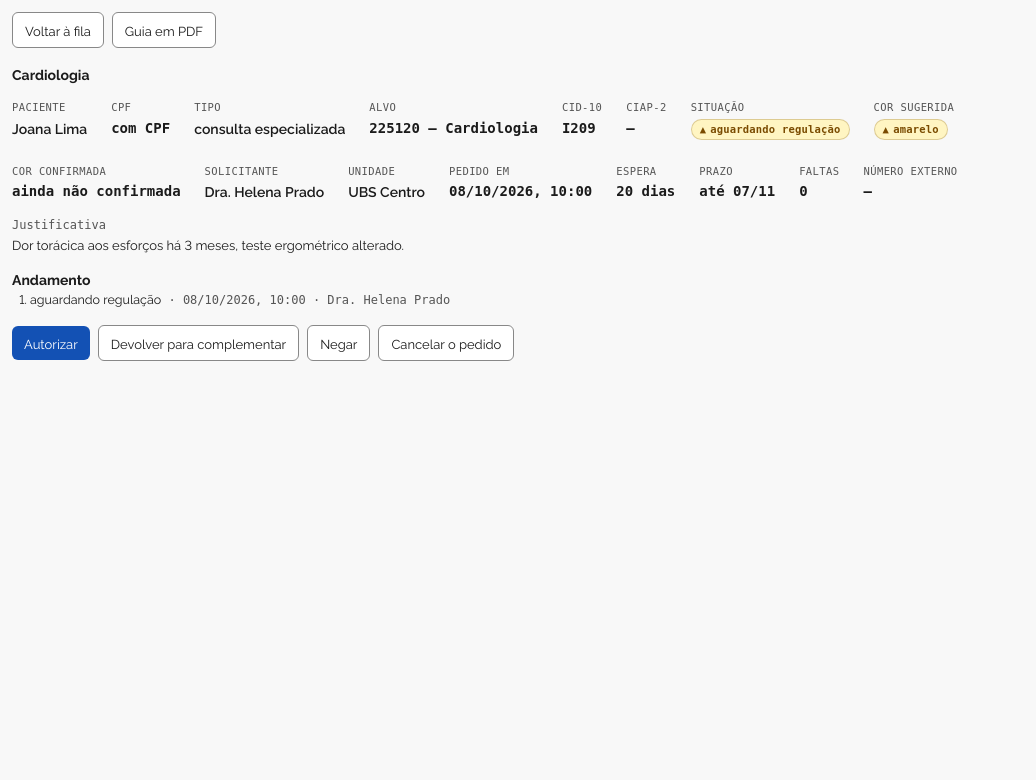
Test: RequestDetail › sem cor confirmada, escolher outra cor que não a sugerida pede motivo
Click the button "Autorizar" at [51, 343], box x1=12 y1=326 x2=90 y2=360
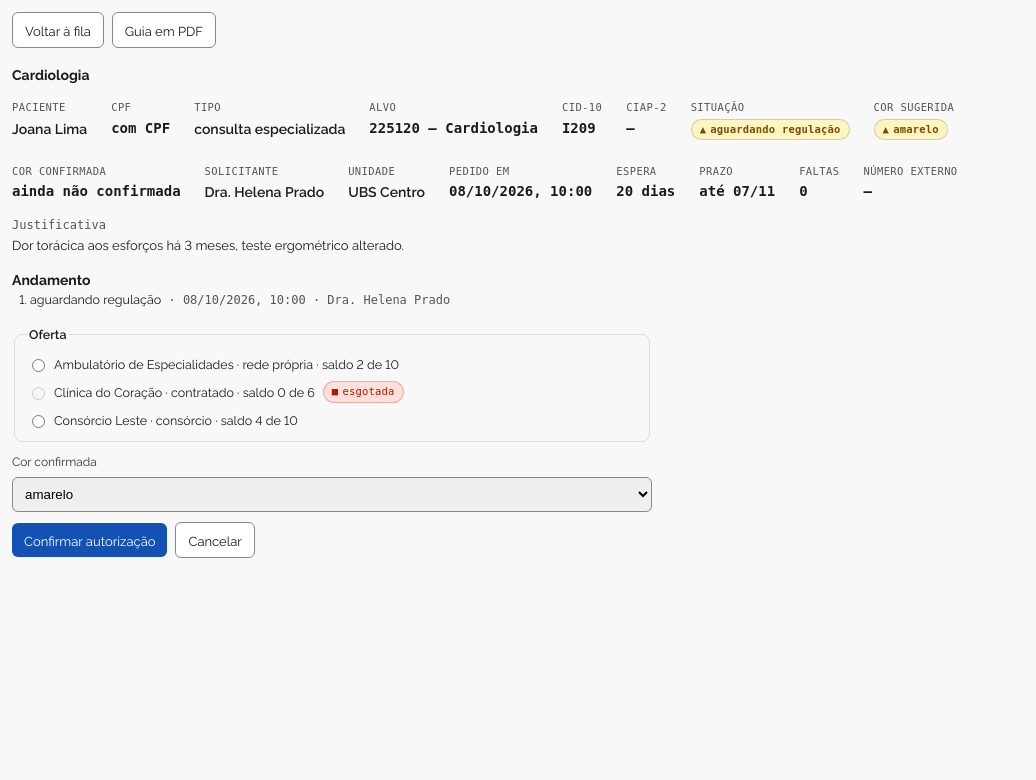
Click the radio button labelled "Consórcio Leste · consórcio · saldo 4 de 10" at [38, 421], box x1=32 y1=415 x2=45 y2=428
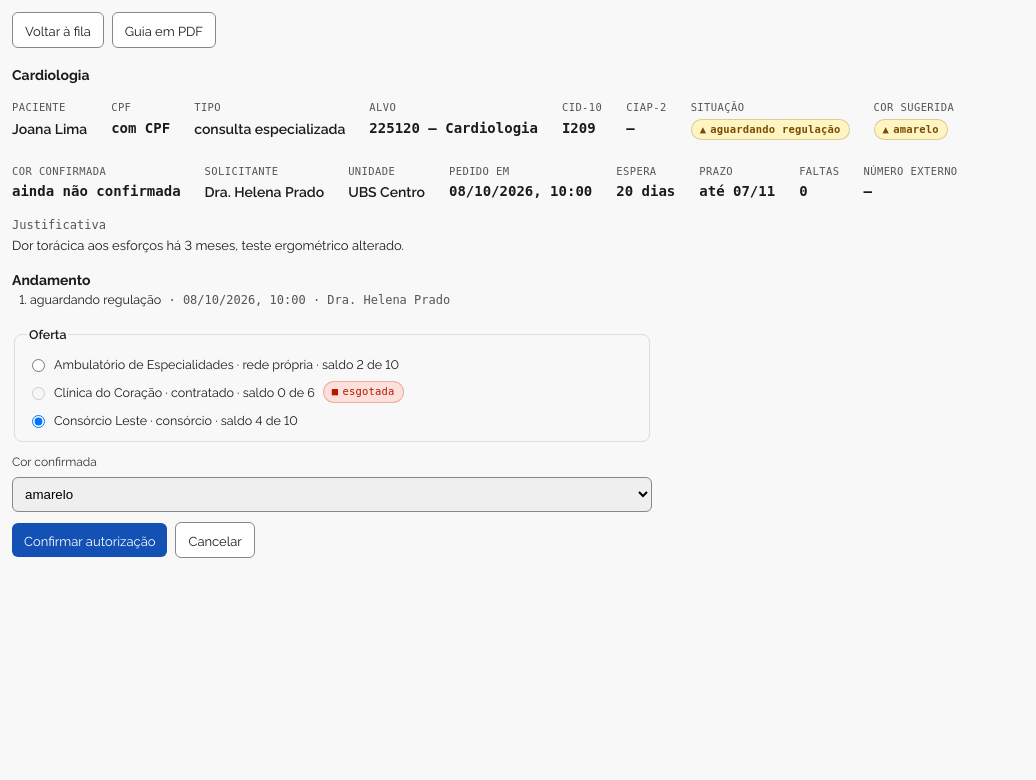
Select "verde" in the dropdown labelled "Cor confirmada" at [332, 495], box x1=12 y1=477 x2=652 y2=512
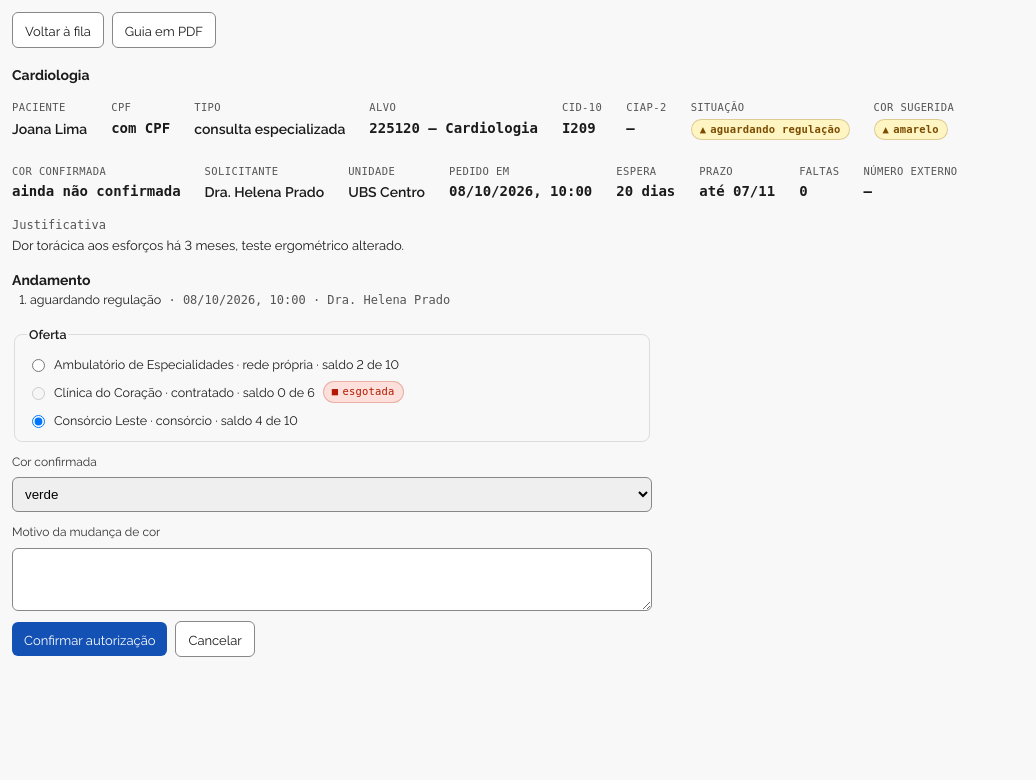
Expected: the text box labelled "Motivo da mudança de cor" is shown, x1=12 y1=548 x2=652 y2=610
